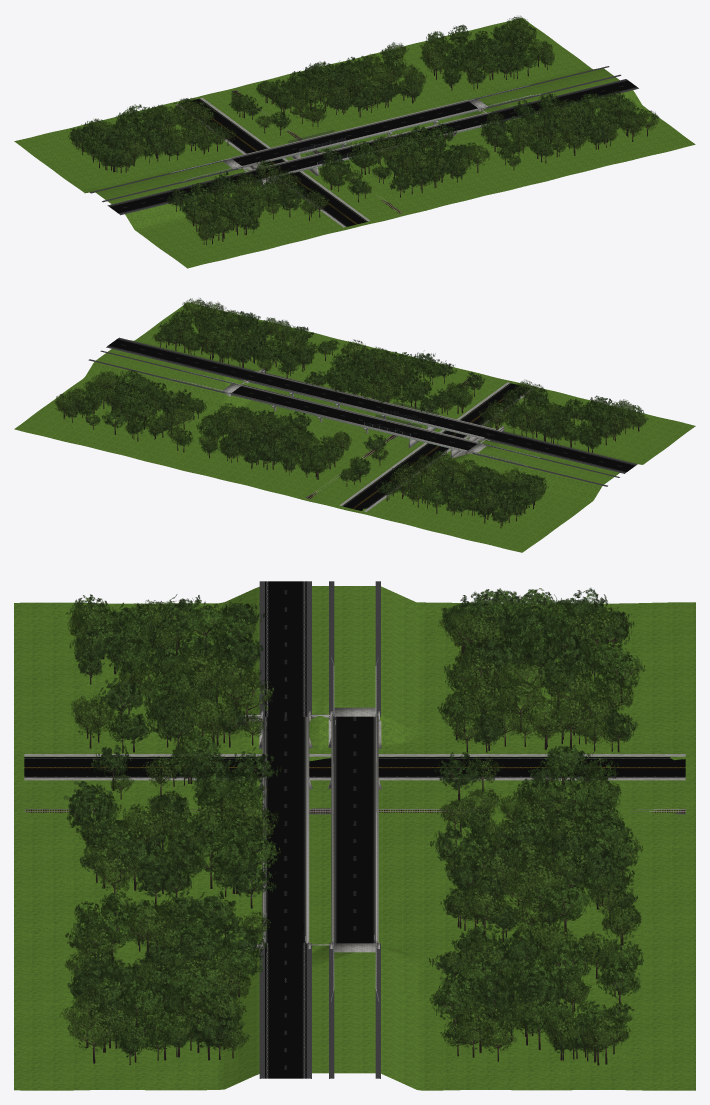
The model's file is bridge_19027_lite.glb.
3 views of the same model, one above another, from view 1: azimuth 30°, elevation 25°; view 2: azimuth 150°, elevation 25°; view 3: azimuth 270°, elevation 25° (orthographic). The views are drawn at different scales.
Visible parts, largest first — view 1: TerrainOuter, TerrainInner, Road_9thSt, DeckSurface, DeckSurface.001, Approach1.001, Approach0.001, Parapet_R, Parapet_L, Sidewalk1, Parapet_L.001; view 2: TerrainOuter, TerrainInner, Road_9thSt, DeckSurface, DeckSurface.001, Approach0.001, Approach1.001, Parapet_L, Parapet_L.001, Parapet_R, Parapet_R.001, Sidewalk1; view 3: TerrainOuter, TerrainInner, TreeLeaves1 (×31), TreeLeaves0 (×29), TreeLeaves2 (×25), DeckSurface, DeckSurface.001, Road_9thSt, Approach1.001, Approach0.001, Sidewalk1, Sidewalk-1 (+5 smaller).
Boxes of the visible parts, x1,y1,x2,y2 form: TerrainOuter: [14, 18, 695, 268]; TerrainInner: [165, 82, 543, 200]; Road_9thSt: [181, 98, 367, 226]; DeckSurface: [232, 101, 477, 166]; DeckSurface.001: [250, 114, 492, 178]; Approach1.001: [486, 80, 637, 120]; Approach0.001: [109, 172, 257, 213]; Parapet_R: [243, 108, 479, 167]; Parapet_L: [231, 100, 468, 158]; Sidewalk1: [200, 97, 370, 221]; Parapet_L.001: [249, 112, 485, 171]; TerrainOuter: [14, 302, 695, 552]; TerrainInner: [171, 363, 542, 487]; Road_9thSt: [342, 383, 530, 510]; DeckSurface: [232, 386, 477, 450]; DeckSurface.001: [250, 373, 494, 437]; Approach0.001: [485, 430, 636, 472]; Approach1.001: [107, 338, 258, 380]; Parapet_L: [230, 392, 466, 451]; Parapet_L.001: [248, 379, 484, 438]; Parapet_R: [241, 384, 478, 442]; Parapet_R.001: [259, 371, 495, 430]; Sidewalk1: [339, 382, 509, 505]; TerrainOuter: [14, 586, 695, 1090]; TerrainInner: [231, 677, 478, 999]; TreeLeaves1 (×31): [60, 599, 641, 1051]; TreeLeaves0 (×29): [86, 600, 645, 1044]; TreeLeaves2 (×25): [63, 588, 620, 1047]; DeckSurface: [334, 716, 375, 943]; DeckSurface.001: [265, 716, 306, 943]; Road_9thSt: [24, 757, 685, 777]; Approach1.001: [265, 943, 306, 1078]; Approach0.001: [265, 581, 306, 716]; Sidewalk1: [24, 777, 685, 780]; Sidewalk-1: [24, 754, 685, 756].
Bounding box in the file's own units: 1139 × 71.13 × 660.
20 materials, 18 textured.
